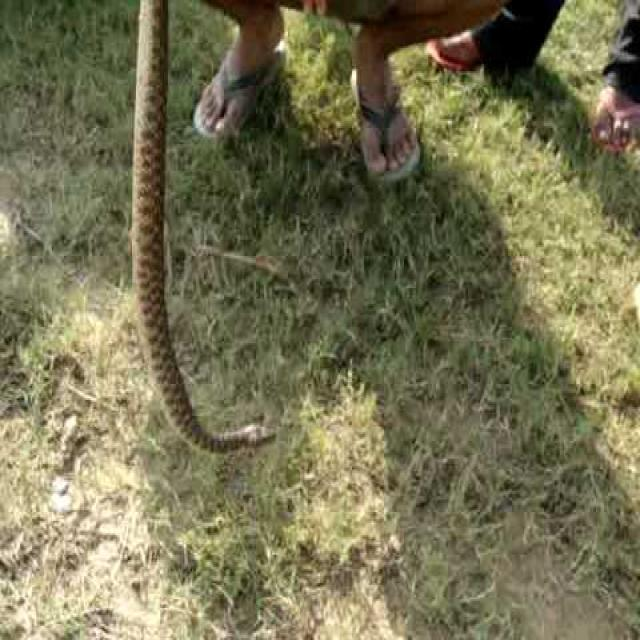Snake: (128, 0, 278, 455)
